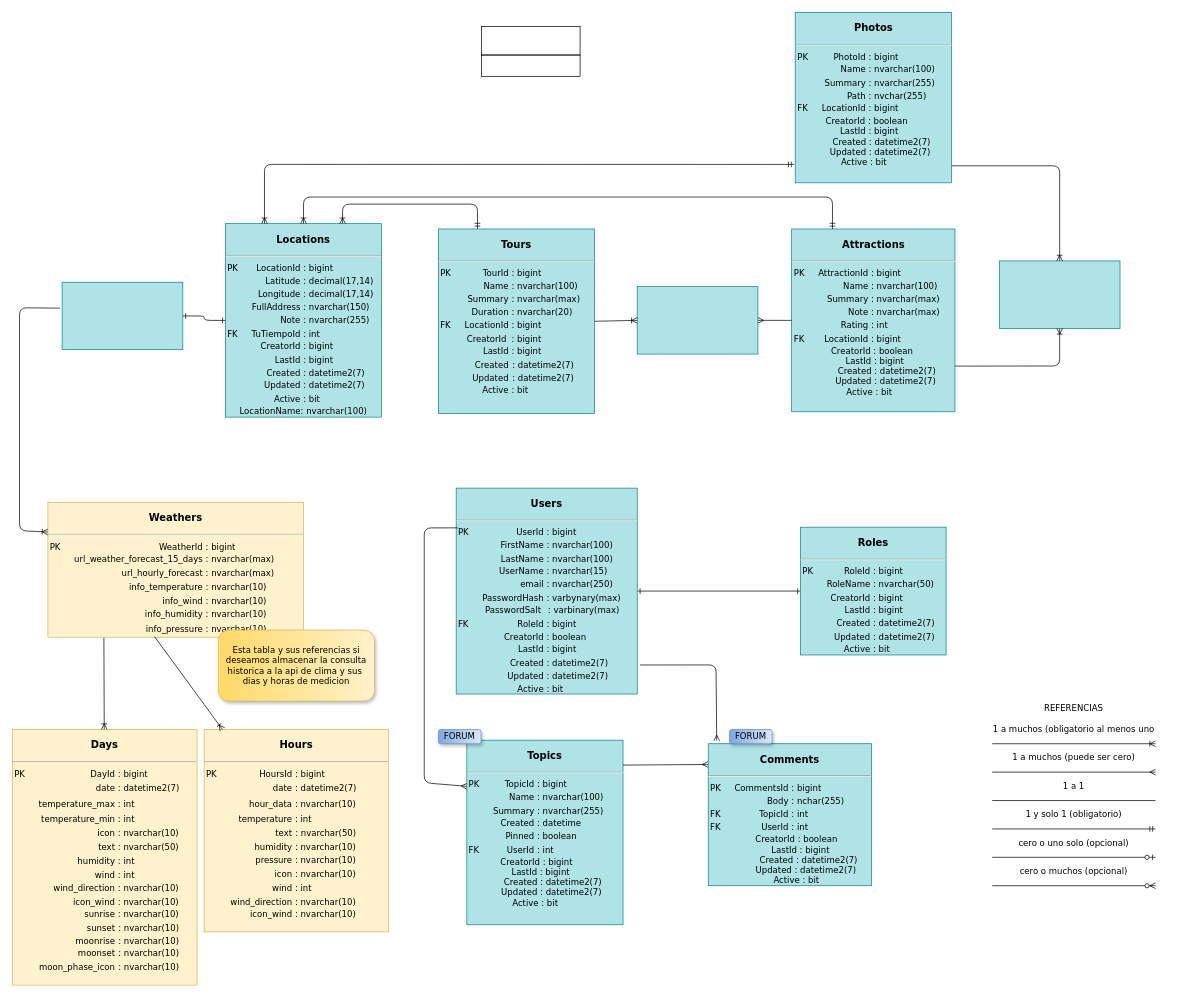
Some shapes in this 1182 by 998 pixel diagram are drawn without their labels. Here are the shapes that lost their labels. From the top down, the centre of each, then its label:
At pixel 530 40: "MOD. BD RELACIONAL GRUPO 1B VIAJES 365º".
At pixel 1059 294: "Attraction_photos FK photoId : bigint FK attractionId : bigint".
At pixel 122 316: "TuTiempo PK ID : bigint Name : nvarchar(max)".
At pixel 697 320: "Tour_attractions FK TourId : bigint FK AttractionId : bigint".
